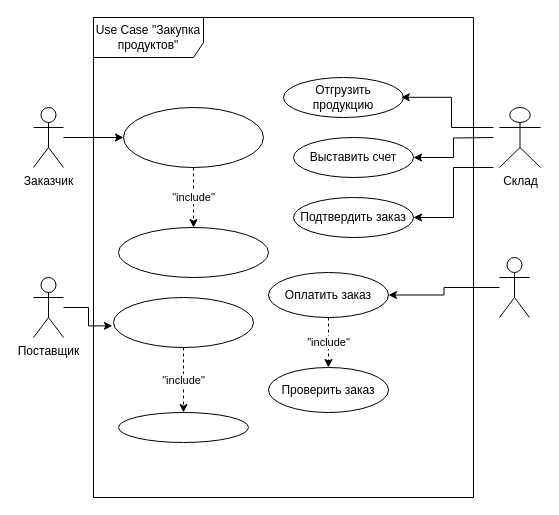
This 559x515 diagram has some shape labels left out. Each missing label, with the centre of its shape:
Бухгалтер: the point at 514,287
Выбрать поставщика: the point at 193,252
Принять продукцию: the point at 183,322
Проверить на брак: the point at 183,427
Создать заказ на покупку: the point at 193,137
